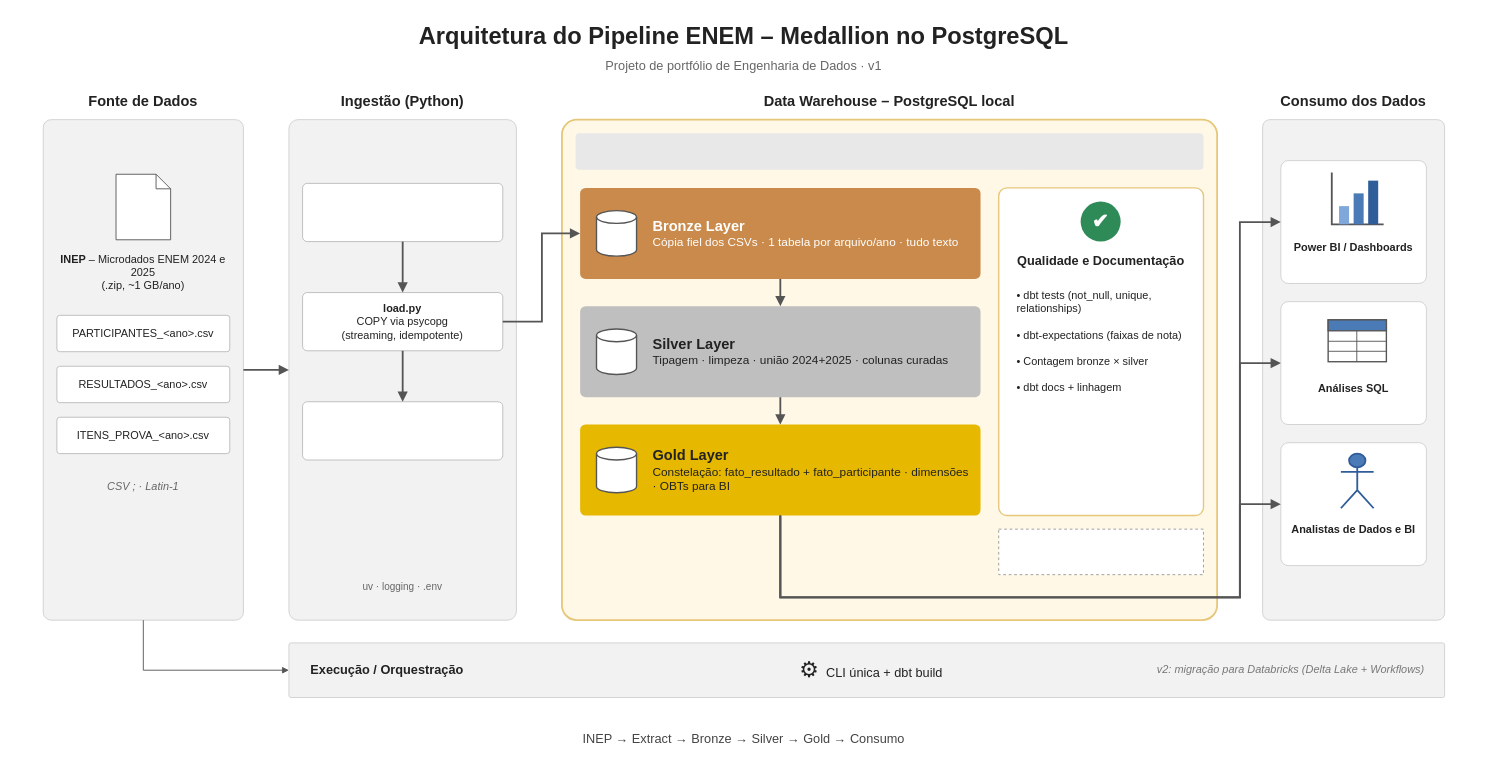
Some shapes in this 1487 by 762 pixel diagram are drawn without their labels. Each missing label, with the centre of its shape:
"cli.py python -m enem_pipeline run" goes at pixel 402 430.
"extract.py download com cache + unzip" goes at pixel 402 212.
"LGPD: PARTICIPANTES e RESULTADOS não têm chave em comum → cruzamento só agregado" goes at pixel 1100 551.
"Transformações e Qualidade – dbt-core + dbt-postgres" goes at pixel 889 151.
"ZIP" goes at pixel 143 206.
